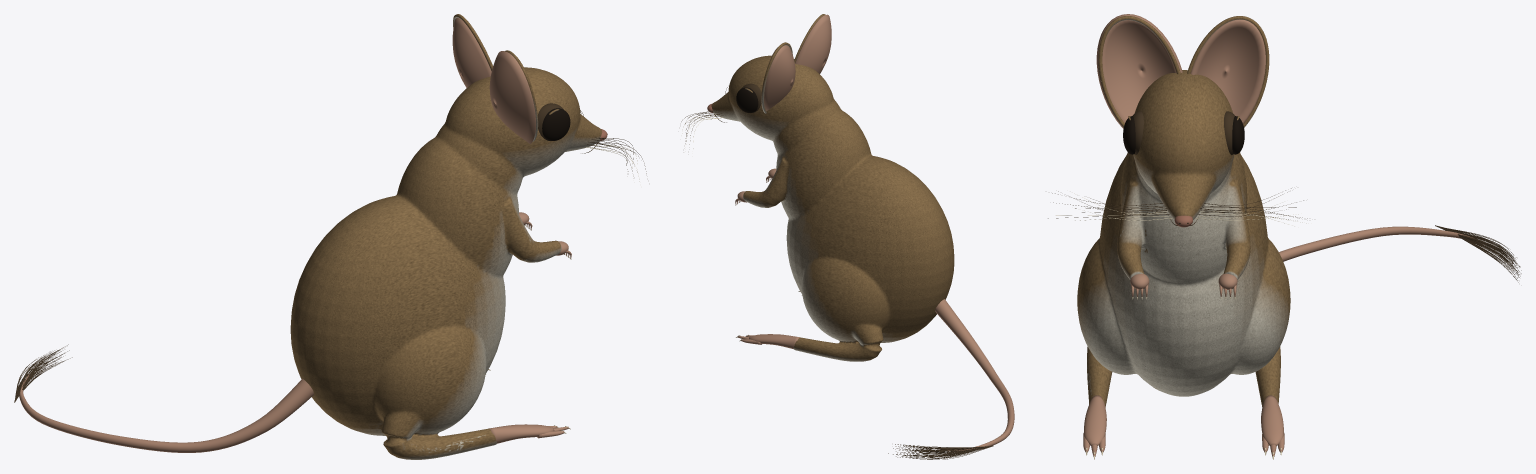
Rendered from spinifex-hopping-mouse-original.glb.
3 renders of one model, left to right at view 1: azimuth 30°, elevation 25°; view 2: azimuth 150°, elevation 25°; view 3: azimuth 270°, elevation 25°, orthographic. The views are drawn at different scales.
Parts seen in each view (by area): view 1: Spinifex hopping mouse original; view 2: Spinifex hopping mouse original; view 3: Spinifex hopping mouse original.
Part boxes in pixels (x1=…): Spinifex hopping mouse original: x1=14, y1=14, x2=646, y2=459; Spinifex hopping mouse original: x1=681, y1=14, x2=1014, y2=459; Spinifex hopping mouse original: x1=1048, y1=14, x2=1521, y2=459.
Size of the model in its own units: 2.14 by 1.61 by 1.66.
Materials: 6 (1 with a texture image).
